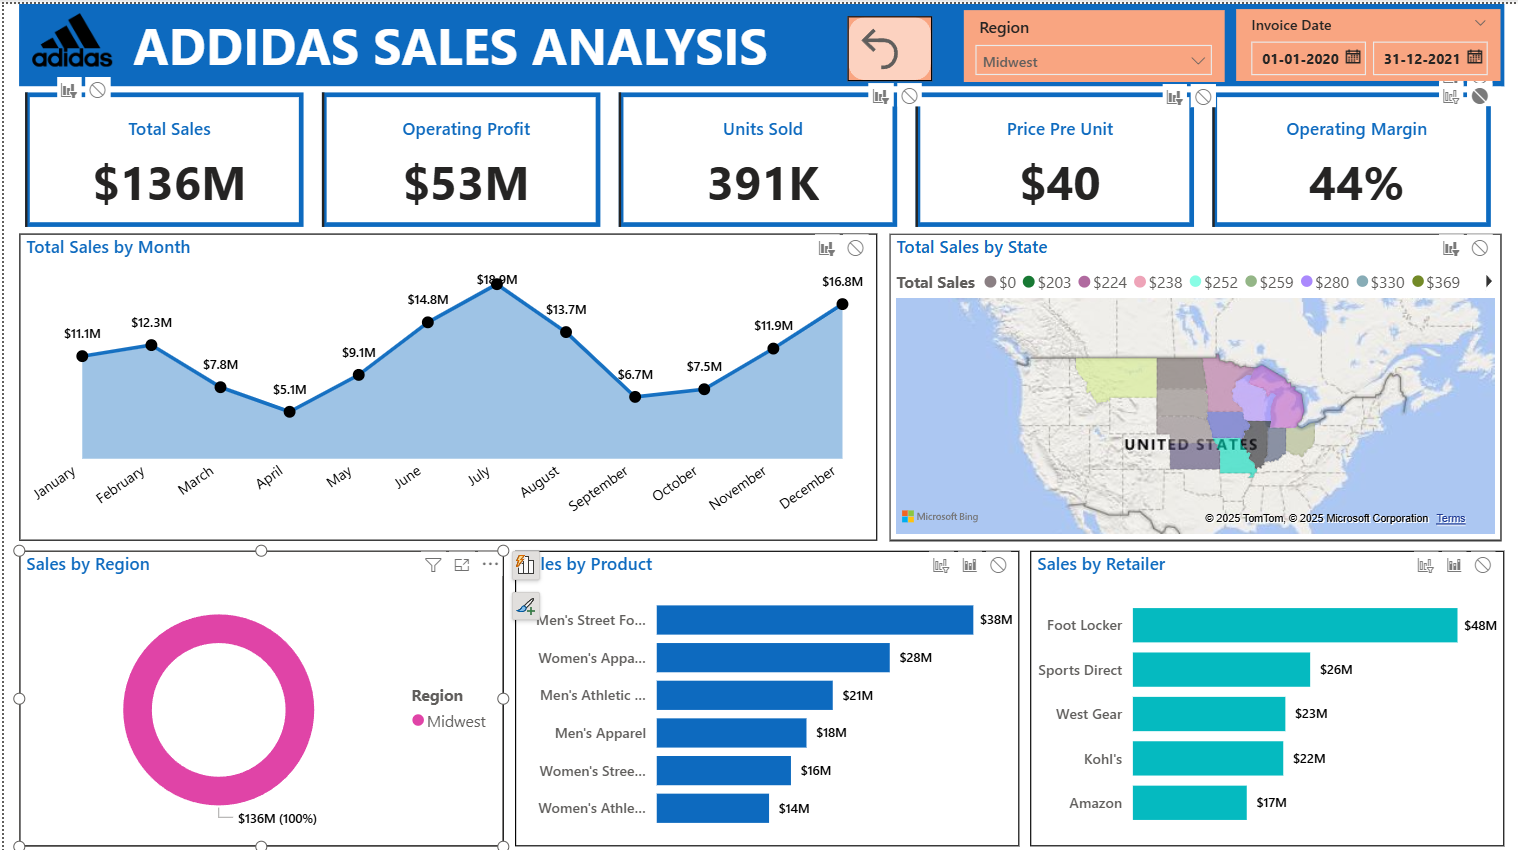

Layout of this report page (visuals, bound fields, positions):
{"tool":"powerbi","page":{"name":"Page 1","canvas":[1280,720],"ordinal":0},"visuals":[{"type":"shape","box":[13,0,1255.6,69.5],"z":0},{"type":"textbox","box":[104.6,0.9,628.4,68.8],"z":1000},{"type":"cardVisual","fields":{"Data":["Sum(Data Sales Adidas.Total Sales)","Sum(Data Sales Adidas.Operating Profit)","Sum(Data Sales Adidas.Units Sold)","Avg(Data Sales Adidas.Price per Unit)","Avg(Data Sales Adidas.Operating Margin)"]},"box":[13,69.5,1253.4,124.9],"z":2000},{"type":"areaChart","title":"Total Sales by Month","fields":{"Category":["Data Sales Adidas.Invoice Date.Variation.Date Hierarchy.Month"],"Y":["Sum(Data Sales Adidas.Total Sales)"]},"box":[13,194.4,725.5,259.6],"z":3000},{"type":"filledMap","title":"Total Sales by State","fields":{"Category":["Data Sales Adidas.State"],"Series":["Data Sales Adidas.Total Sales"]},"box":[748.3,194.4,518.1,259.6],"z":4000},{"type":"donutChart","title":"Sales by Region","fields":{"Category":["Data Sales Adidas.Region"],"Y":["Sum(Data Sales Adidas.Total Sales)"]},"box":[13,462.7,409.5,249.8],"z":5000},{"type":"barChart","title":"Sales by Product","fields":{"Category":["Data Sales Adidas.Product"],"Y":["Sum(Data Sales Adidas.Total Sales)"]},"box":[432.3,462.7,426.8,249.8],"z":6000},{"type":"barChart","title":"Sales by Retailer","fields":{"Y":["Sum(Data Sales Adidas.Total Sales)"],"Category":["Data Sales Adidas.Retailer"]},"box":[867.8,462.7,400.8,249.8],"z":7000},{"type":"slicer","fields":{"Values":["Data Sales Adidas.Region"]},"box":[811.9,5.5,220.2,60.5],"z":8000},{"type":"slicer","fields":{"Values":["Data Sales Adidas.Invoice Date"]},"box":[1042.2,4.6,223.8,60.5],"z":8001},{"type":"image","box":[19.3,0,78,60.5],"z":8002},{"type":"actionButton","box":[712.8,10.1,71.6,55],"z":8003}]}

Visuals, with their boxes on the page's 1280x720 design canvas (x1, y1, x2, y2). These are canvas units, not pixel positions in the 1518x850 screenshot, which may show the page scaled, cropped or inside an application window:
shape: (left=13, top=0, right=1269, bottom=70)
textbox: (left=105, top=1, right=733, bottom=70)
cardVisual - Sum(Data Sales Adidas.Total Sales) x Sum(Data Sales Adidas.Operating Profit): (left=13, top=70, right=1266, bottom=194)
"Total Sales by Month" areaChart: (left=13, top=194, right=738, bottom=454)
"Total Sales by State" filledMap: (left=748, top=194, right=1266, bottom=454)
"Sales by Region" donutChart: (left=13, top=463, right=422, bottom=712)
"Sales by Product" barChart: (left=432, top=463, right=859, bottom=712)
"Sales by Retailer" barChart: (left=868, top=463, right=1269, bottom=712)
slicer - Data Sales Adidas.Region: (left=812, top=6, right=1032, bottom=66)
slicer - Data Sales Adidas.Invoice Date: (left=1042, top=5, right=1266, bottom=65)
image: (left=19, top=0, right=97, bottom=60)
actionButton: (left=713, top=10, right=784, bottom=65)
